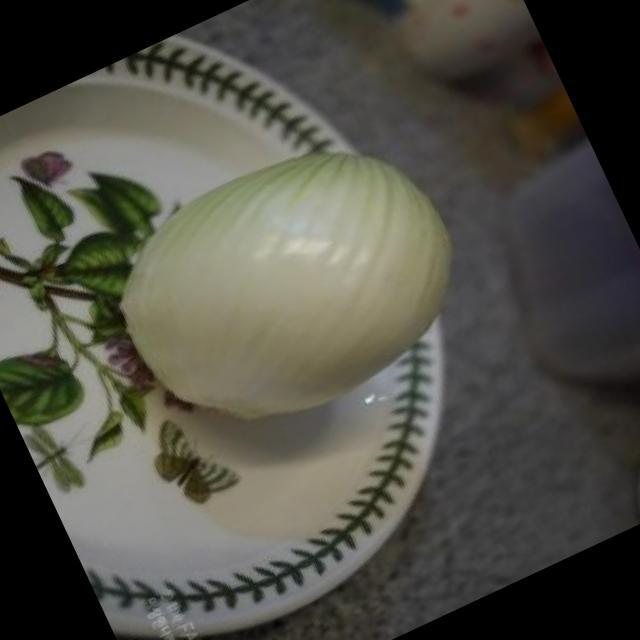Onion: (118, 150, 450, 422)
